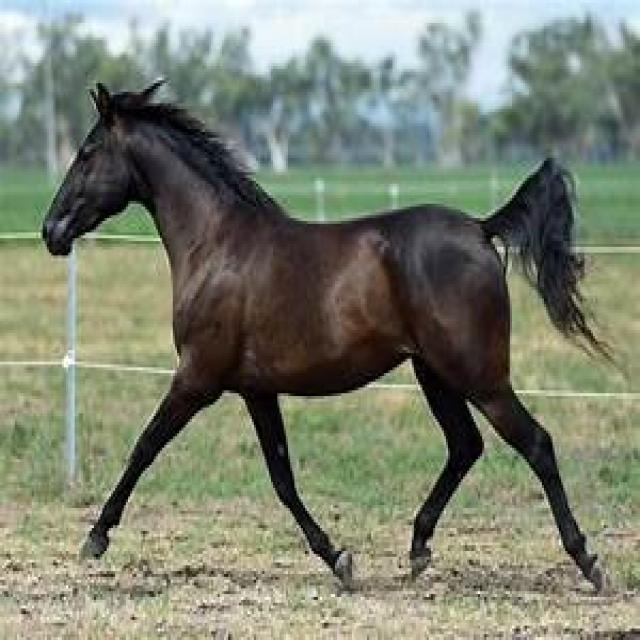horse: (42, 82, 610, 589)
